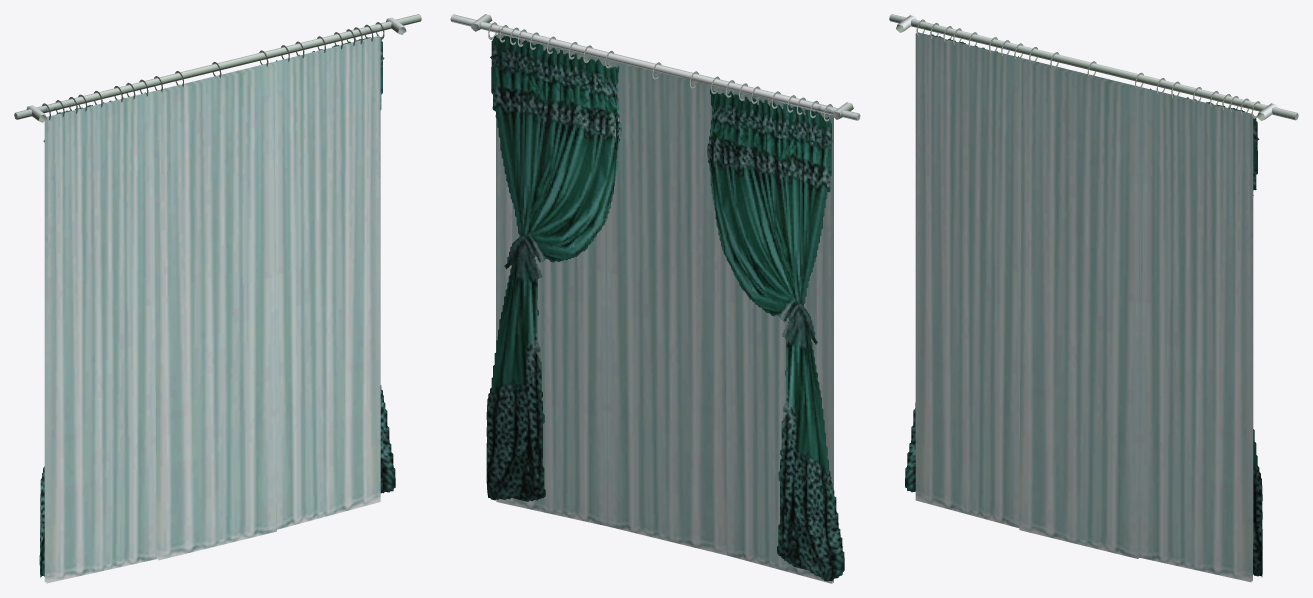
Rendered from furni_0200150_03.FBX.
The picture shows the model from 3 angles, left to right: view 1: azimuth 30°, elevation 25°; view 2: azimuth 150°, elevation 25°; view 3: azimuth 330°, elevation 25°; orthographic projection.
Visible parts, largest first — view 1: furni_0200150_03; view 2: furni_0200150_03; view 3: furni_0200150_03.
Boxes of the visible parts, <box> form: furni_0200150_03: <box>14,14,421,583</box>; furni_0200150_03: <box>450,14,860,583</box>; furni_0200150_03: <box>889,14,1298,582</box>.
Bounding box in the file's own units: 193 × 218 × 11.14.
Materials: 2 (2 with a texture image).
